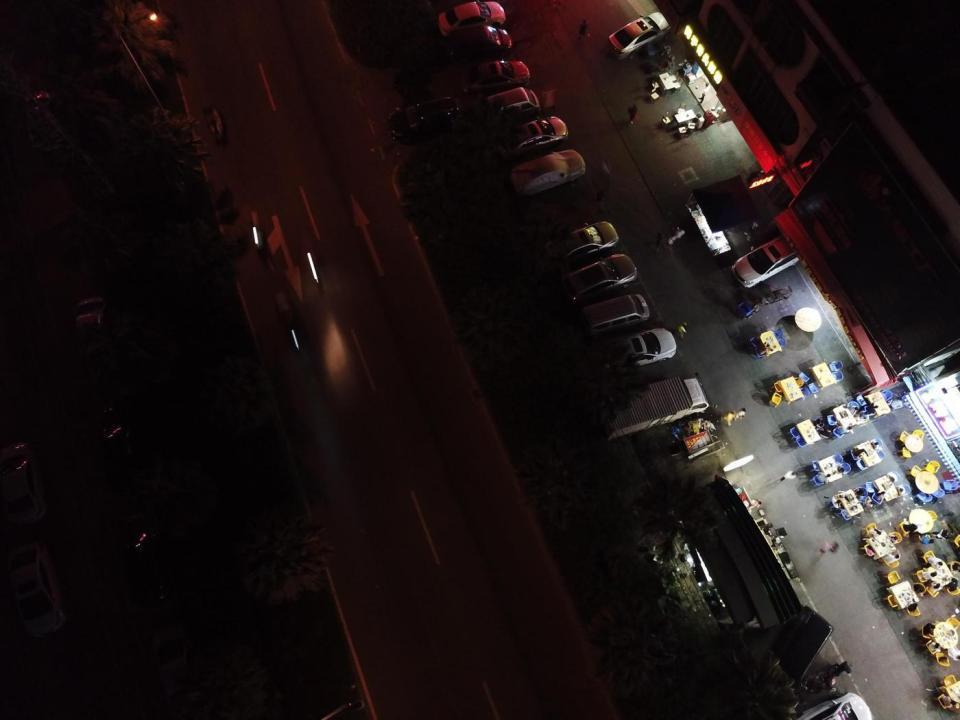car: (5, 540, 70, 649), (0, 437, 51, 533), (126, 528, 178, 619), (540, 219, 620, 271), (731, 233, 803, 289), (561, 253, 638, 304), (597, 328, 676, 376), (387, 95, 461, 146), (88, 406, 140, 477), (512, 148, 585, 198), (608, 10, 672, 61), (496, 116, 570, 160), (444, 22, 513, 64), (70, 292, 108, 366), (792, 689, 878, 720), (437, 0, 507, 38), (460, 60, 530, 96)
truck: (598, 371, 718, 442)
van: (753, 603, 832, 704), (577, 293, 650, 339), (486, 88, 542, 125)
